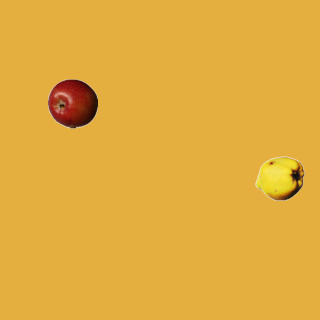Apple Braeburn: (47, 78, 97, 128)
Quince: (254, 153, 304, 203)
